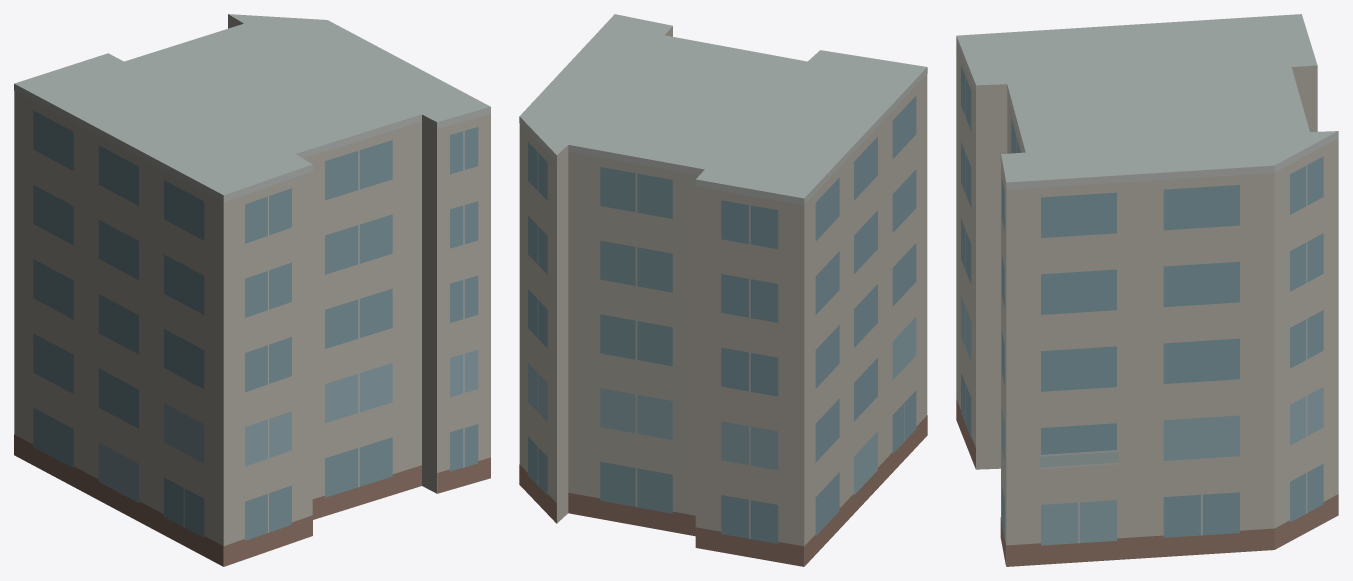
File: survey-upis-32724150.glb
3 views of the same model, side by side, from view 1: azimuth 30°, elevation 25°; view 2: azimuth 150°, elevation 25°; view 3: azimuth 270°, elevation 25° (orthographic). The views are drawn at different scales.
Parts seen in each view (by area): view 1: survey-upis-32724150.tmp; view 2: survey-upis-32724150.tmp; view 3: survey-upis-32724150.tmp.
Part boxes in pixels (x1,y1,x2,y2): survey-upis-32724150.tmp: [14, 14, 490, 566]; survey-upis-32724150.tmp: [519, 14, 927, 566]; survey-upis-32724150.tmp: [956, 14, 1338, 566].
Size of the model in its own units: 12.33 by 13.1 by 11.82.
